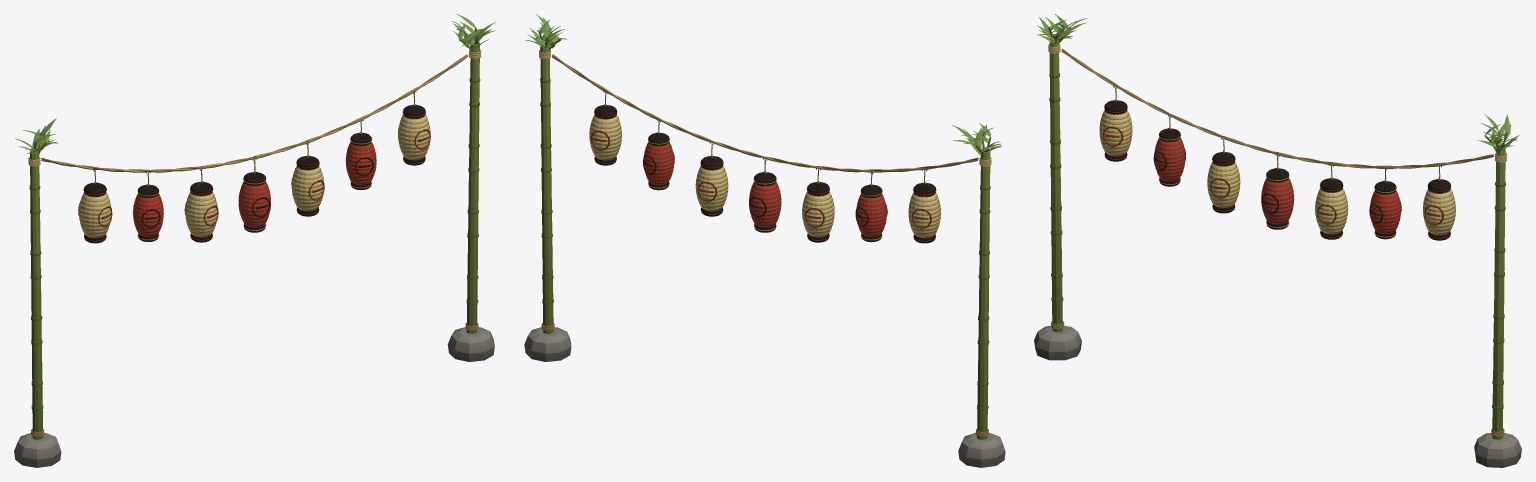
File: festival-garland.glb
3 views of the same model, side by side, from view 1: azimuth 30°, elevation 25°; view 2: azimuth 150°, elevation 25°; view 3: azimuth 330°, elevation 25° (orthographic).
Parts seen in each view (by area): view 1: festival_garland; view 2: festival_garland; view 3: festival_garland.
Part boxes in pixels (x1,y1,x2,y2): festival_garland: (14, 14, 495, 467); festival_garland: (524, 14, 1005, 467); festival_garland: (1034, 14, 1521, 467).
Size of the model in its own units: 4.56 by 3.05 by 0.4484.
